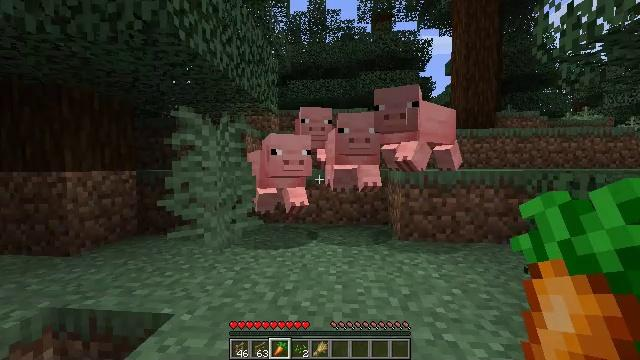pig: (374, 84, 460, 177), (249, 132, 313, 212), (326, 112, 381, 191), (296, 108, 332, 160)
